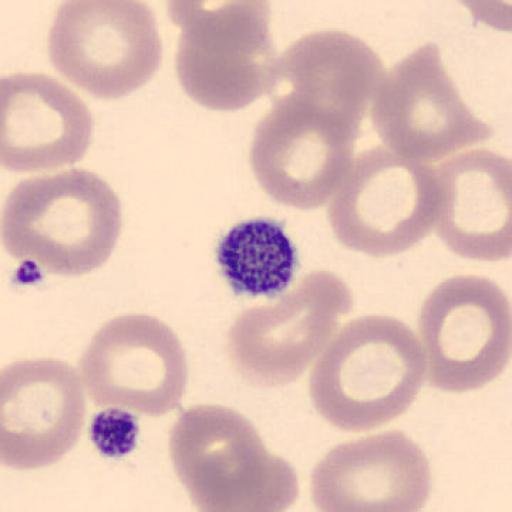Platelet: (212, 214, 304, 301), (86, 404, 144, 462)
RBC: (226, 270, 354, 392), (264, 27, 387, 146), (308, 313, 426, 435), (325, 142, 447, 260), (369, 42, 486, 163), (3, 166, 124, 278), (247, 93, 357, 212), (77, 311, 189, 420), (46, 0, 164, 102), (415, 272, 511, 396), (167, 402, 268, 511), (308, 429, 433, 512), (2, 356, 88, 471), (1, 68, 94, 174), (428, 146, 512, 262), (172, 17, 266, 113), (166, 0, 274, 58), (188, 460, 280, 512), (164, 0, 272, 41), (449, 0, 511, 35)
